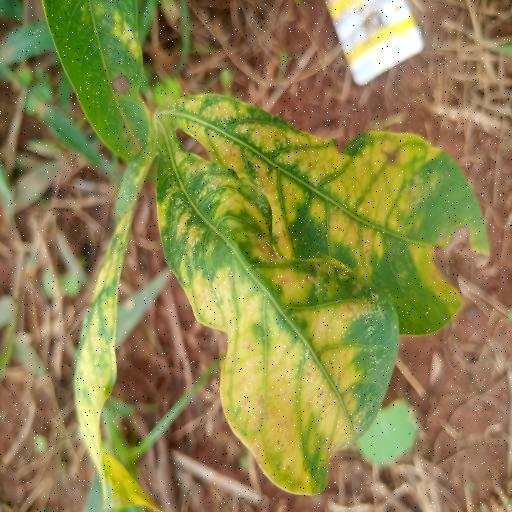Cassava_Mosaic: (55, 0, 491, 512)
